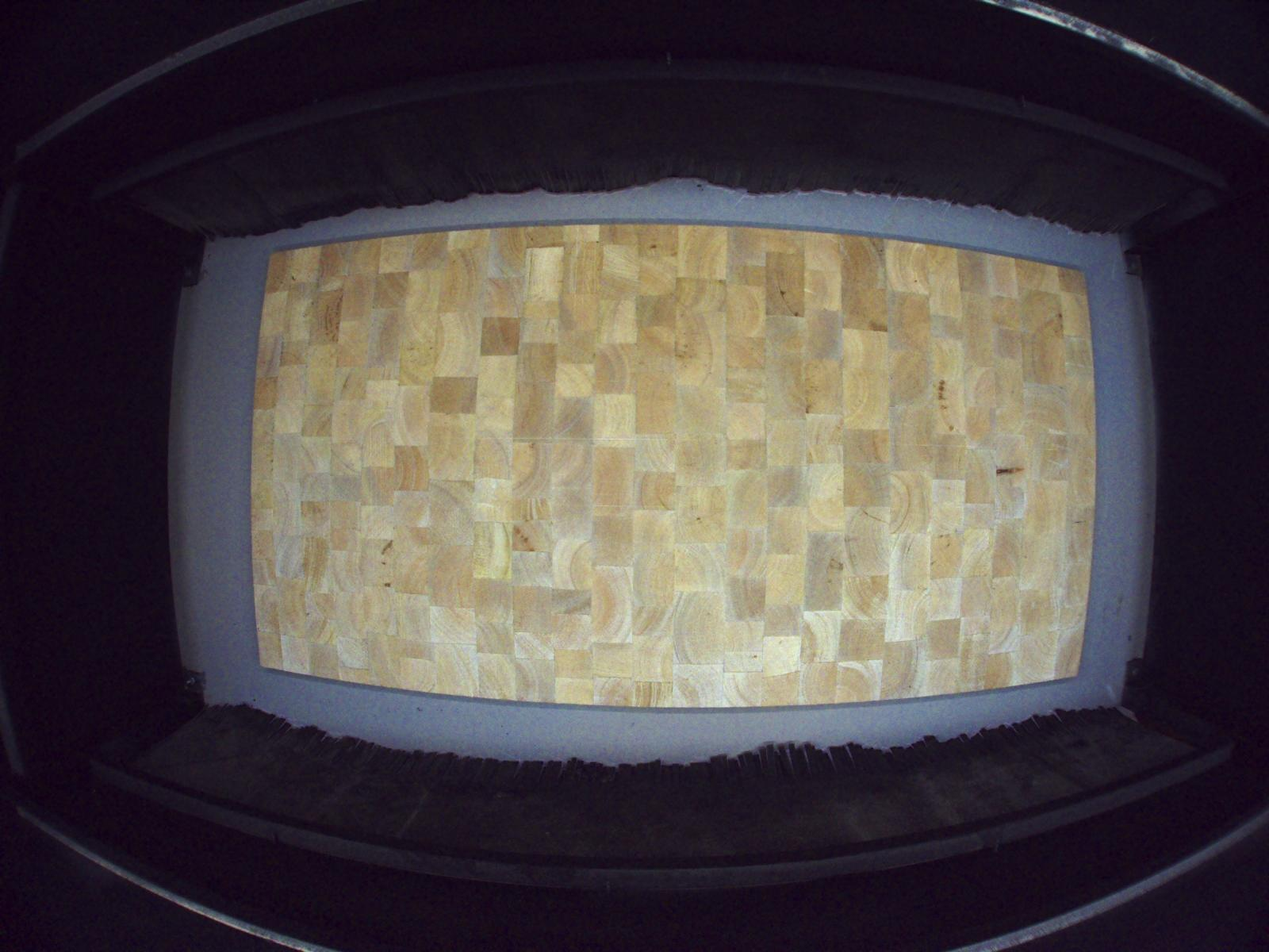nudillo: (996, 466, 1025, 476)
